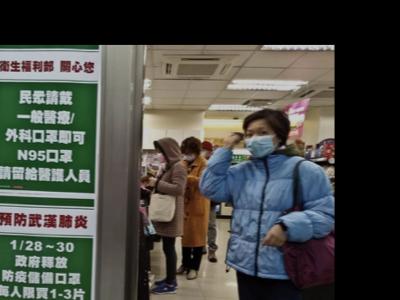with_mask: (244, 124, 276, 160), (181, 150, 198, 162), (155, 148, 165, 163), (199, 147, 208, 158)
